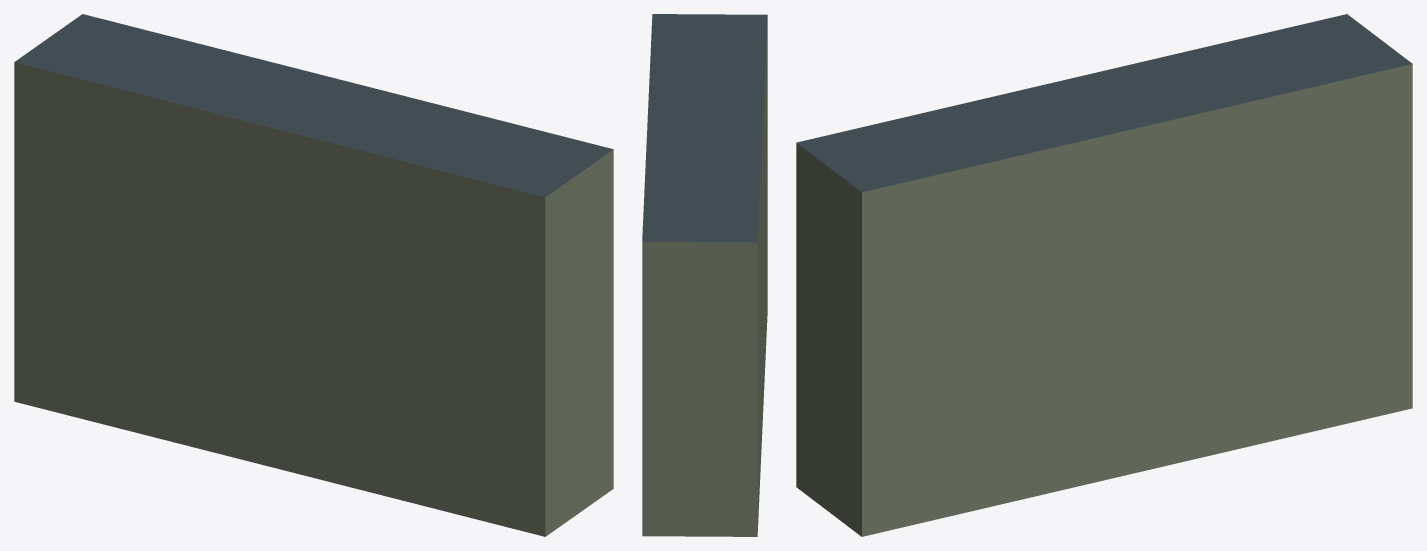
The model's file is nyc-1016015-0.glb.
3 renders of one model, left to right at view 1: azimuth 30°, elevation 25°; view 2: azimuth 150°, elevation 25°; view 3: azimuth 270°, elevation 25°, orthographic. The views are drawn at different scales.
Parts seen in each view (by area): view 1: nyc-1016015-0; view 2: nyc-1016015-0; view 3: nyc-1016015-0.
Part boxes in pixels (x1,y1,x2,y2): nyc-1016015-0: (14, 14, 613, 536); nyc-1016015-0: (642, 14, 767, 536); nyc-1016015-0: (796, 14, 1412, 536).
Size of the model in its own units: 20.16 by 18.15 by 29.43.
